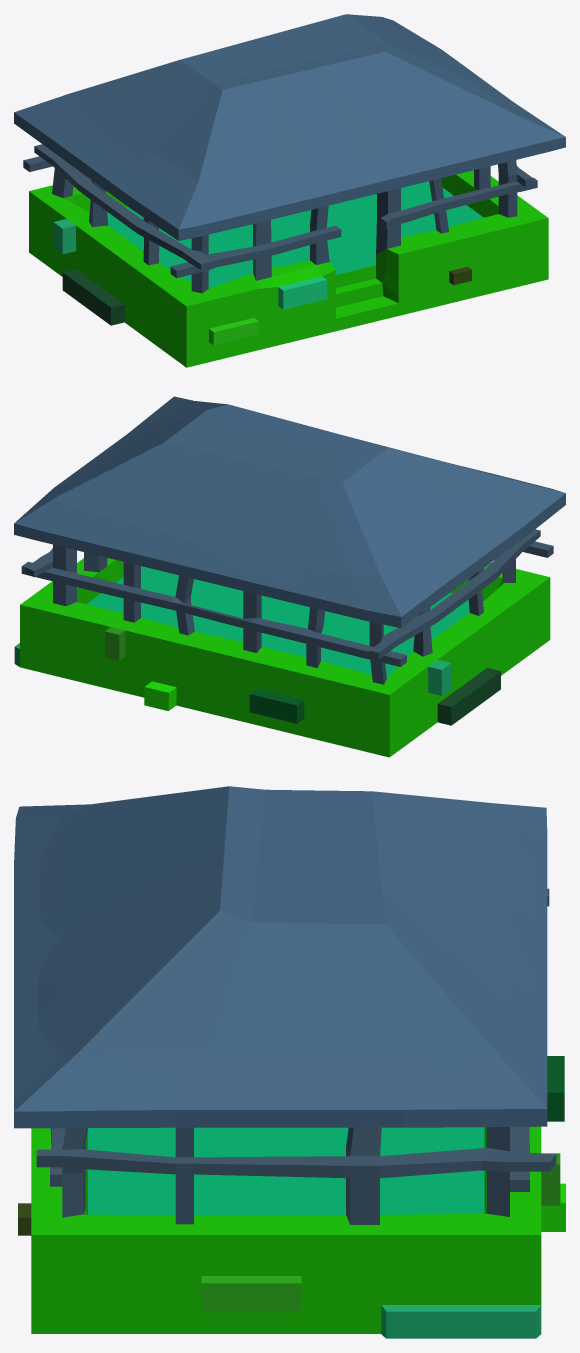
Rendered from NativeHouse.fbx.
The picture shows the model from 3 angles, top to bottom: view 1: azimuth 30°, elevation 25°; view 2: azimuth 150°, elevation 25°; view 3: azimuth 270°, elevation 25°; orthographic projection. The views are drawn at different scales.
Visible parts, largest first — view 1: Plane.002; view 2: Plane.002; view 3: Plane.002.
Boxes of the visible parts, bbox=[...] form: Plane.002: bbox=[14, 14, 565, 367]; Plane.002: bbox=[14, 396, 565, 757]; Plane.002: bbox=[14, 786, 565, 1338].
Bounding box in the file's own units: 150 × 78.01 × 115.
